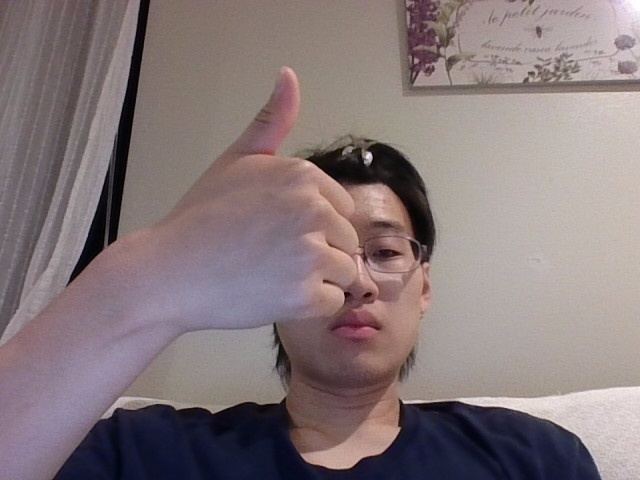ThumbsUp: (181, 66, 359, 330)
